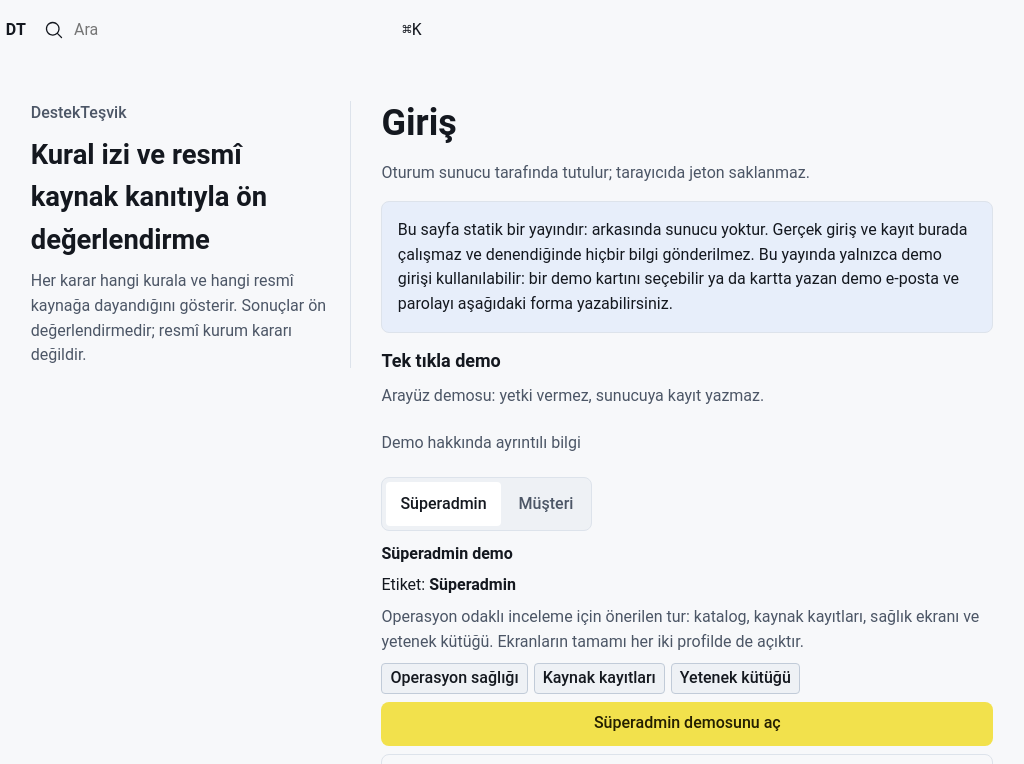
entering the demo puts the role in the address, where a reload can find it › carries ?demo=… after a one-click entry
Click the button "Süperadmin demosunu aç". click: (687, 724)
box: [381,702,993,746]
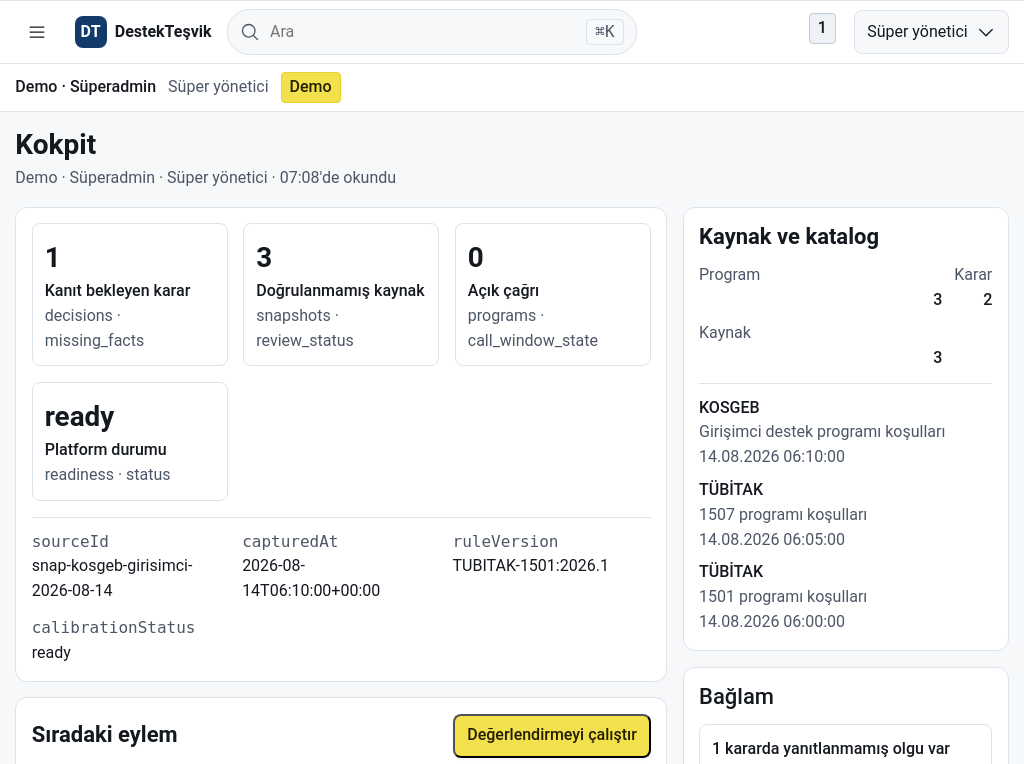
Expected: the heading "Kokpit" is shown, [15,128,96,161]
